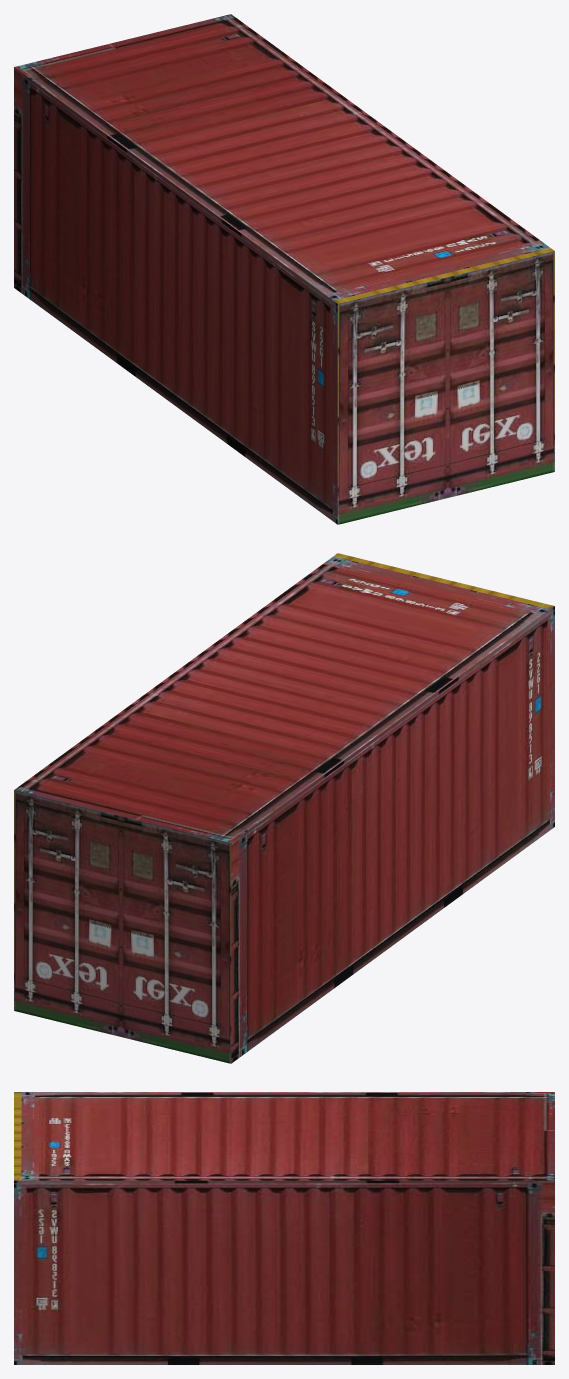
File: red.fbx
3 views of the same model, one above another, from view 1: azimuth 30°, elevation 25°; view 2: azimuth 150°, elevation 25°; view 3: azimuth 270°, elevation 25° (orthographic). The views are drawn at different scales.
Parts seen in each view (by area): view 1: polySurface36; view 2: polySurface36; view 3: polySurface36.
Boxes of the visible parts, x1=… form: polySurface36: x1=14, y1=14, x2=554, y2=524; polySurface36: x1=14, y1=553, x2=554, y2=1063; polySurface36: x1=14, y1=1092, x2=554, y2=1364.
Bounding box in the file's own units: 6.45 × 6.26 × 16.65.
Materials: 1 (1 with a texture image).
